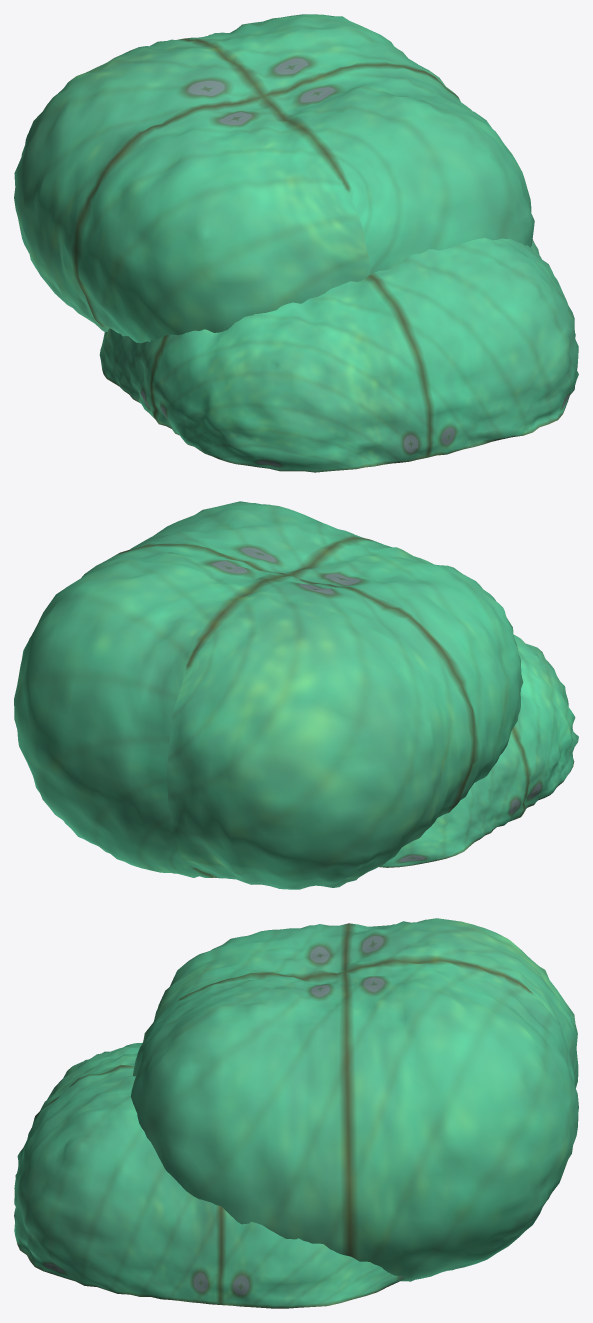
Rendered from CORGEO_MODELS_Environment.fbx.
The picture shows the model from 3 angles, top to bottom: view 1: azimuth 30°, elevation 25°; view 2: azimuth 150°, elevation 25°; view 3: azimuth 270°, elevation 25°; orthographic projection. The views are drawn at different scales.
Visible parts, largest first — view 1: GiantMine, GiantMine_Sky; view 2: GiantMine, GiantMine_Sky; view 3: GiantMine, GiantMine_Sky.
Part boxes in pixels (left/top/right/bottom): GiantMine: left=14, top=14, right=534, bottom=343; GiantMine_Sky: left=99, top=237, right=578, bottom=472; GiantMine: left=14, top=501, right=523, bottom=889; GiantMine_Sky: left=379, top=635, right=578, bottom=867; GiantMine: left=130, top=918, right=578, bottom=1281; GiantMine_Sky: left=14, top=1042, right=404, bottom=1308.
Size of what is drawn, in the model's own units: 3370 by 2354 by 4054.
